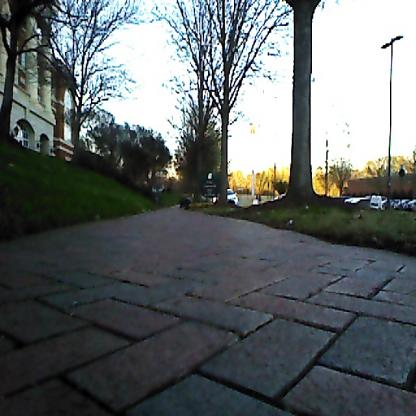Edge: (203, 210, 416, 275)
Sidewalk: (0, 207, 416, 416)
